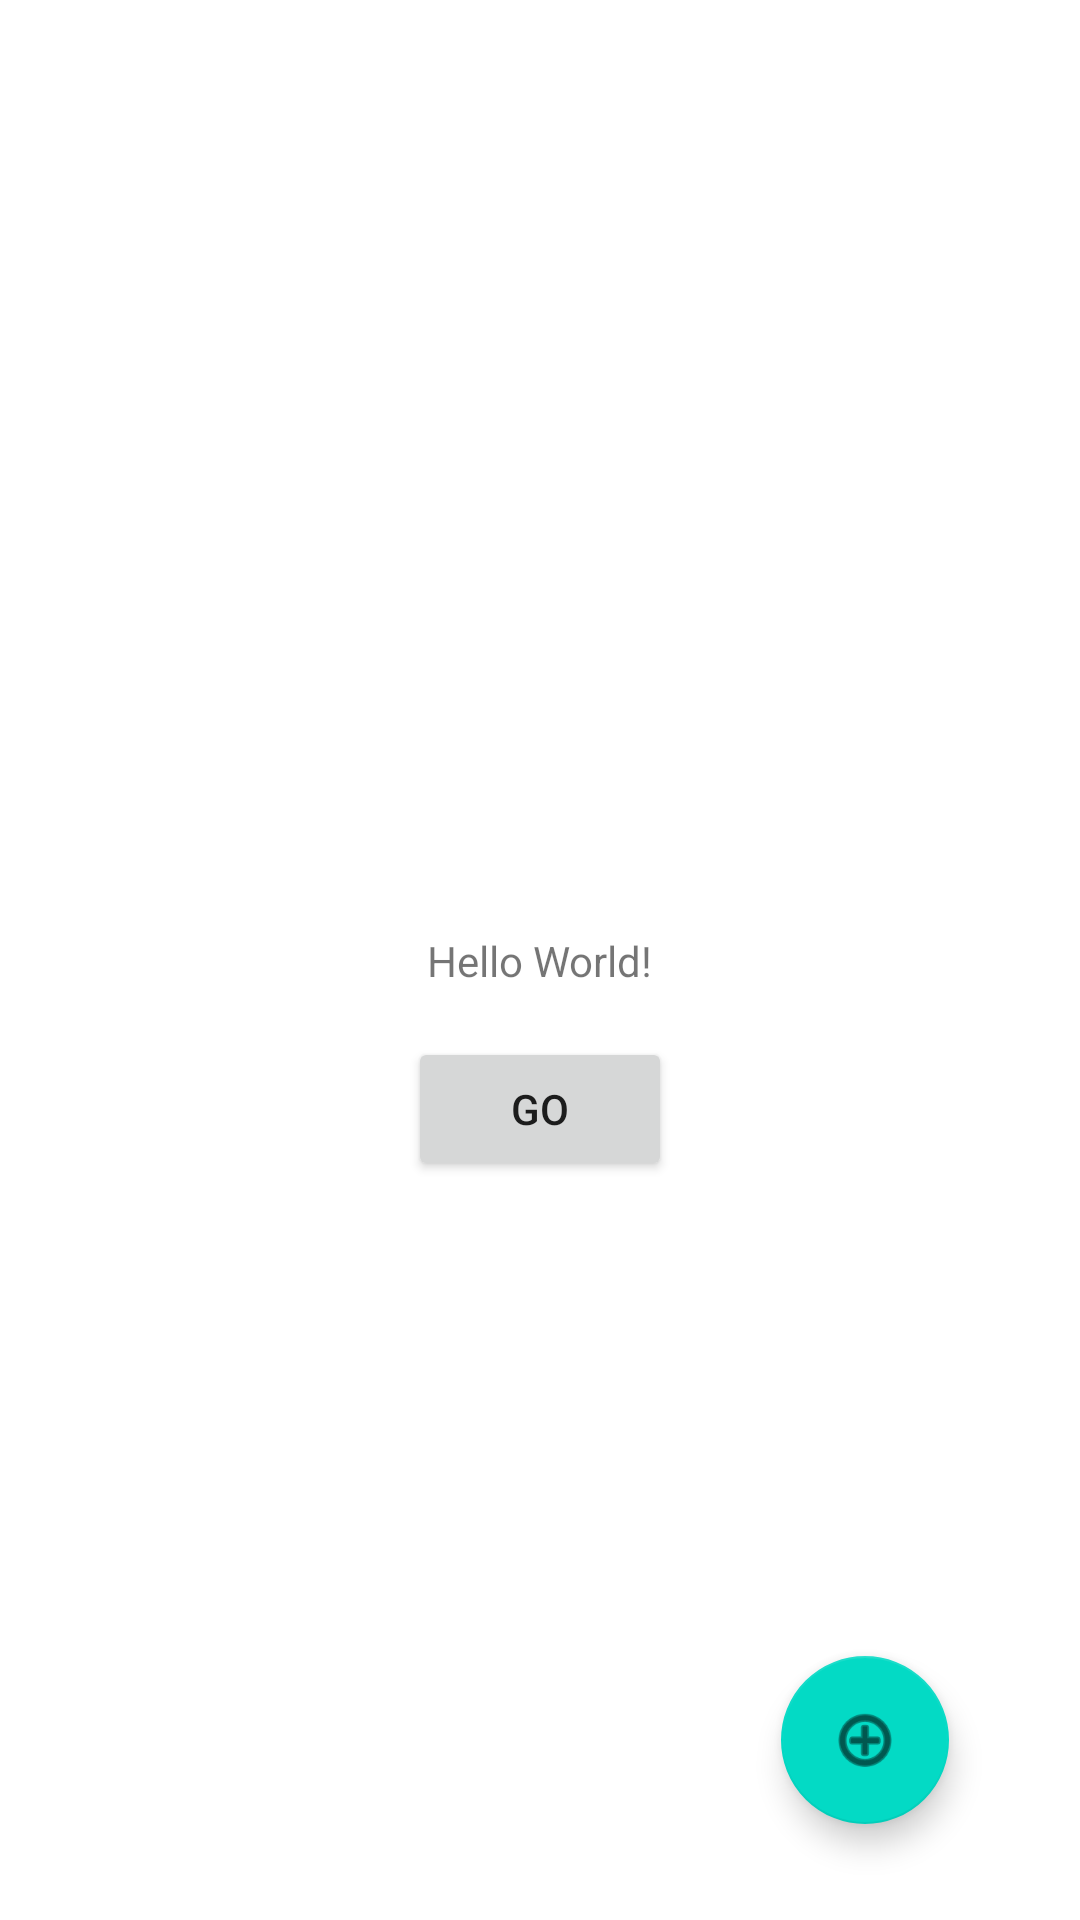

Icon bounding boxes for this 1080px×1920px phone screenshot, format (x1, y1, x2, y2):
add: (781, 1656, 949, 1824)
